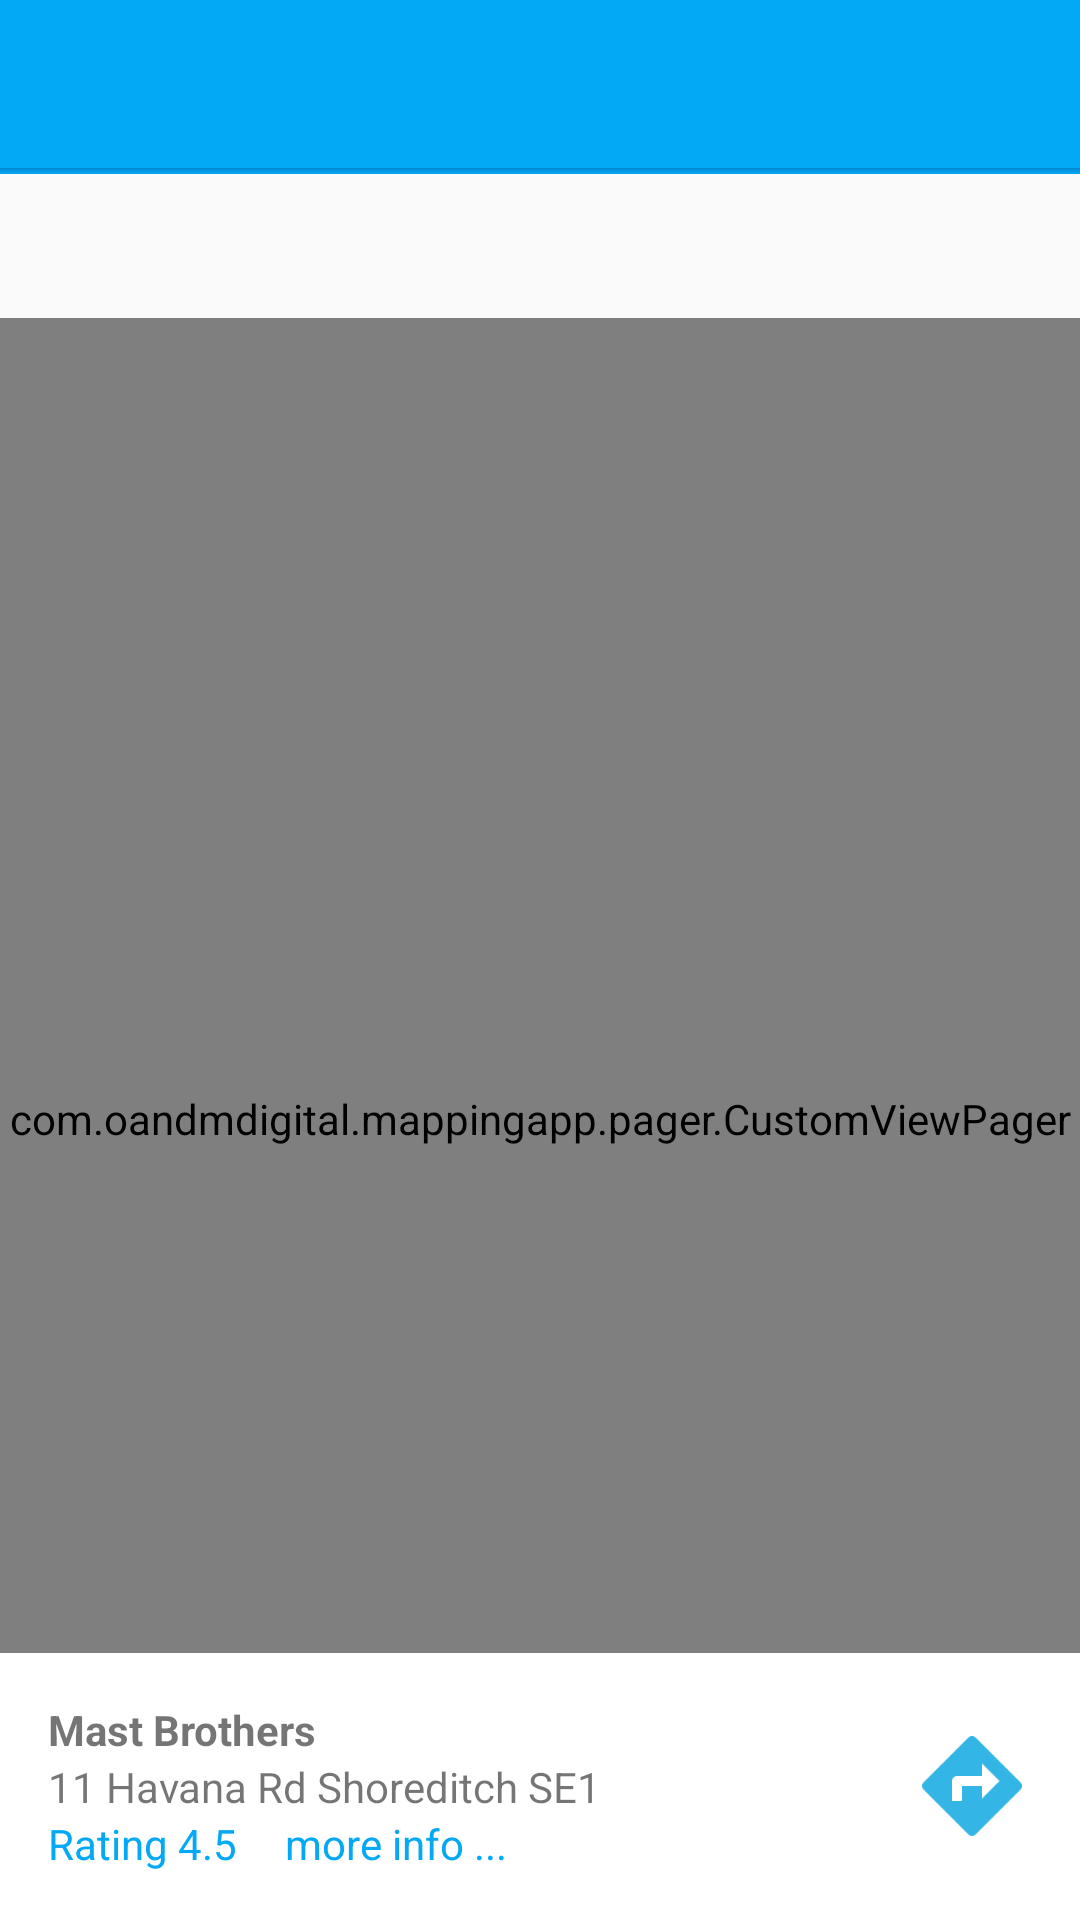

Where to tap for icons on this 1080×1920 app screen, as [x,y]:
Navigate to the selected location using Google Maps: [972,1786]
